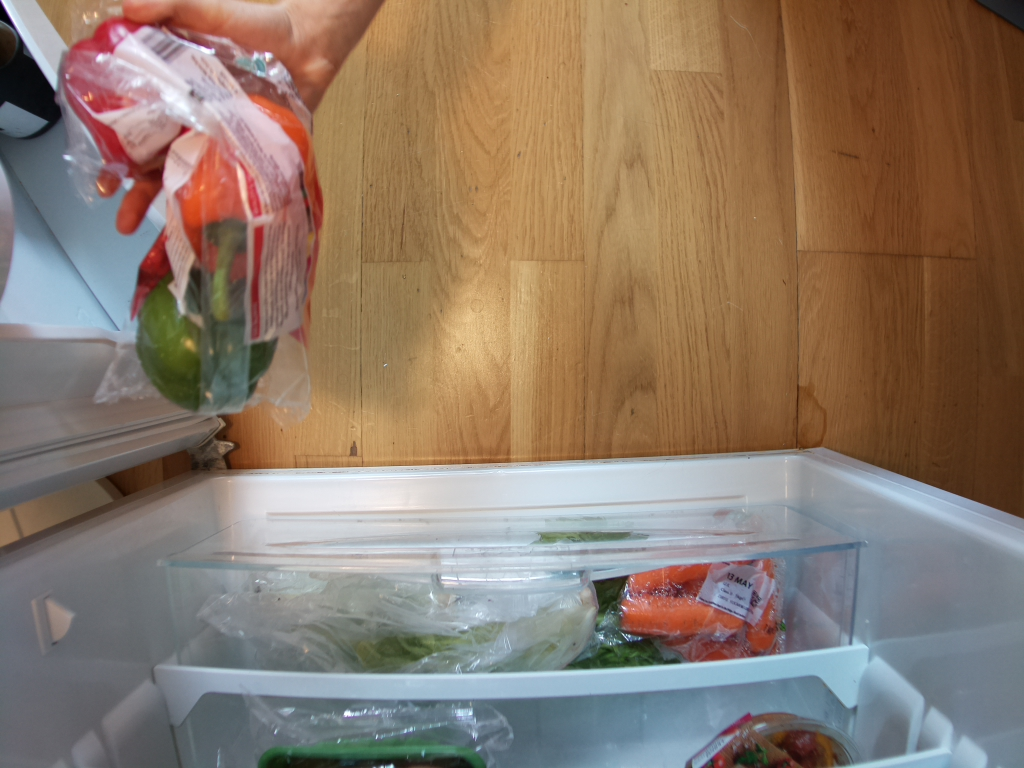pepper: (176, 94, 323, 323), (61, 23, 198, 173), (135, 271, 279, 412)
